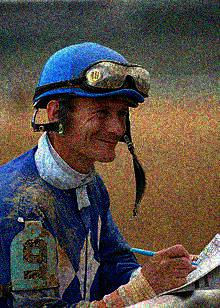helmet: (33, 42, 144, 166)
